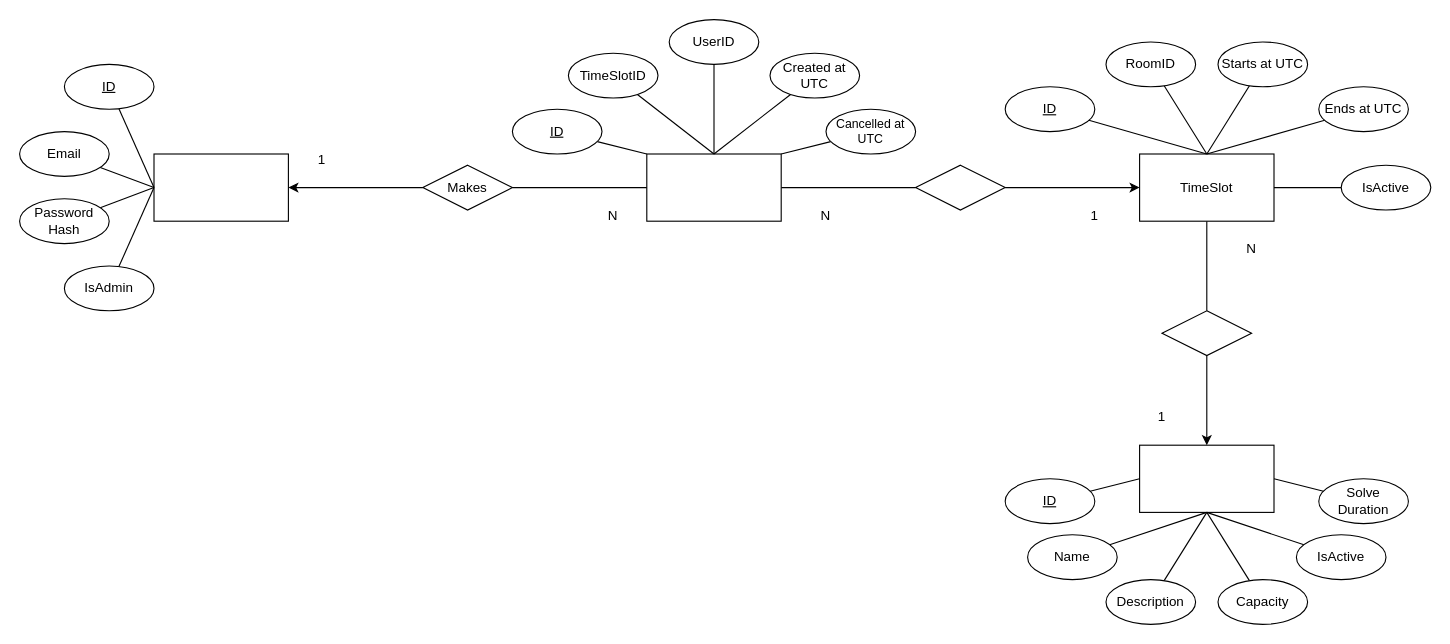
Image size: 1450x644. Some labels were removed from this diagram. Here are the shapes that lost their labels. From the top down, the centre of each, then its label:
At (220,187): "User".
At (713,187): "Booking".
At (959,187): "Reserves".
At (1206,333): "Has".
At (1206,478): "Room".
